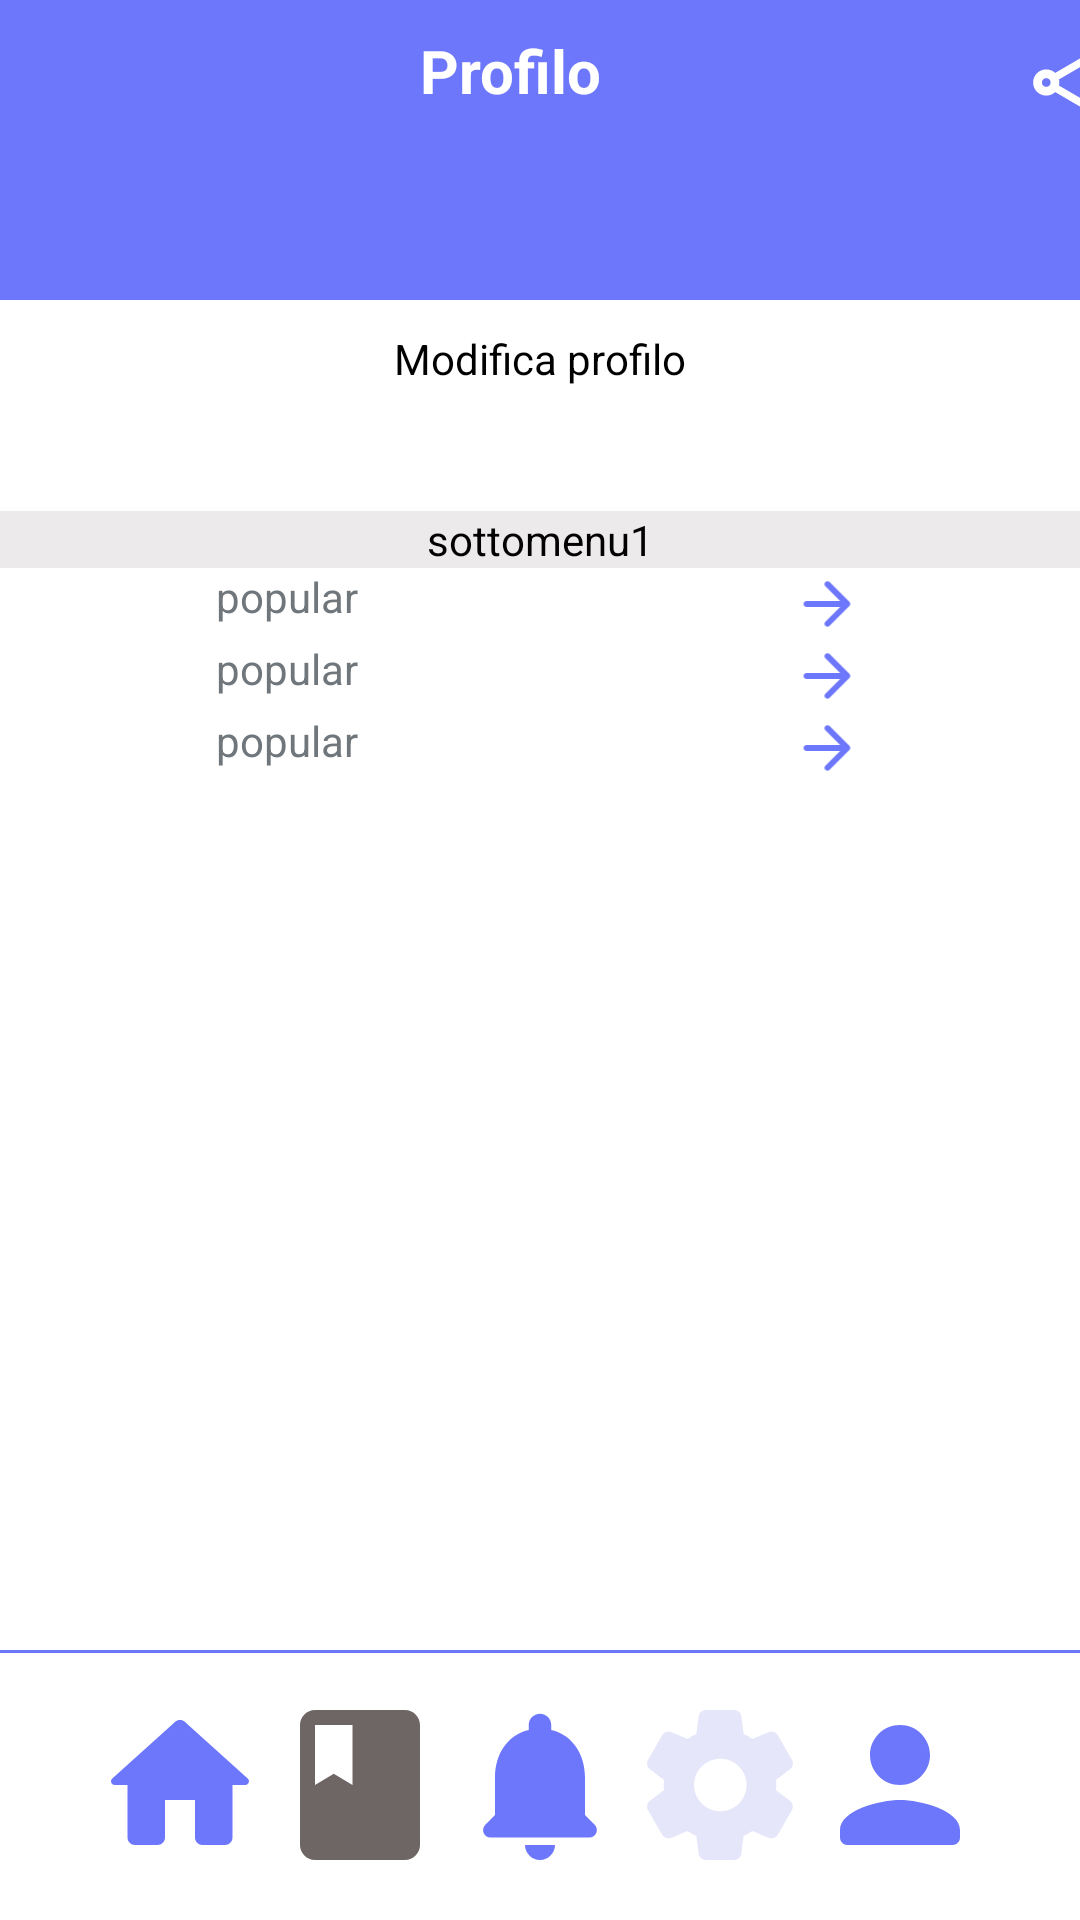

Screen size 1080w x 1920h. Icon name, then its box in pixels as Rect(x1, y1, x2, y2):
book: Rect(300, 1710, 420, 1860)
home: Rect(111, 1720, 249, 1845)
notifications: Rect(483, 1713, 597, 1860)
person: Rect(840, 1725, 960, 1845)
settings: Rect(647, 1710, 793, 1860)
